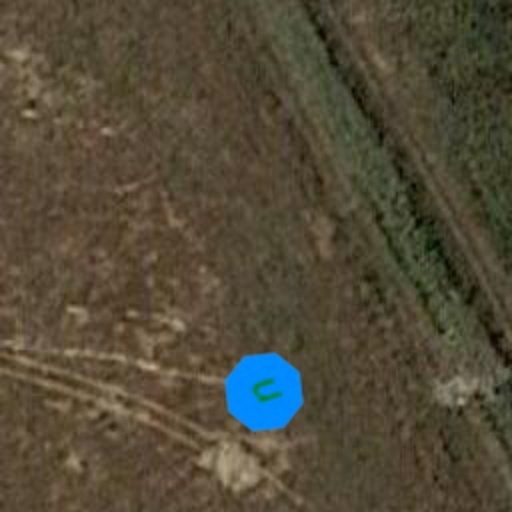octagon: (208, 336, 320, 448)
